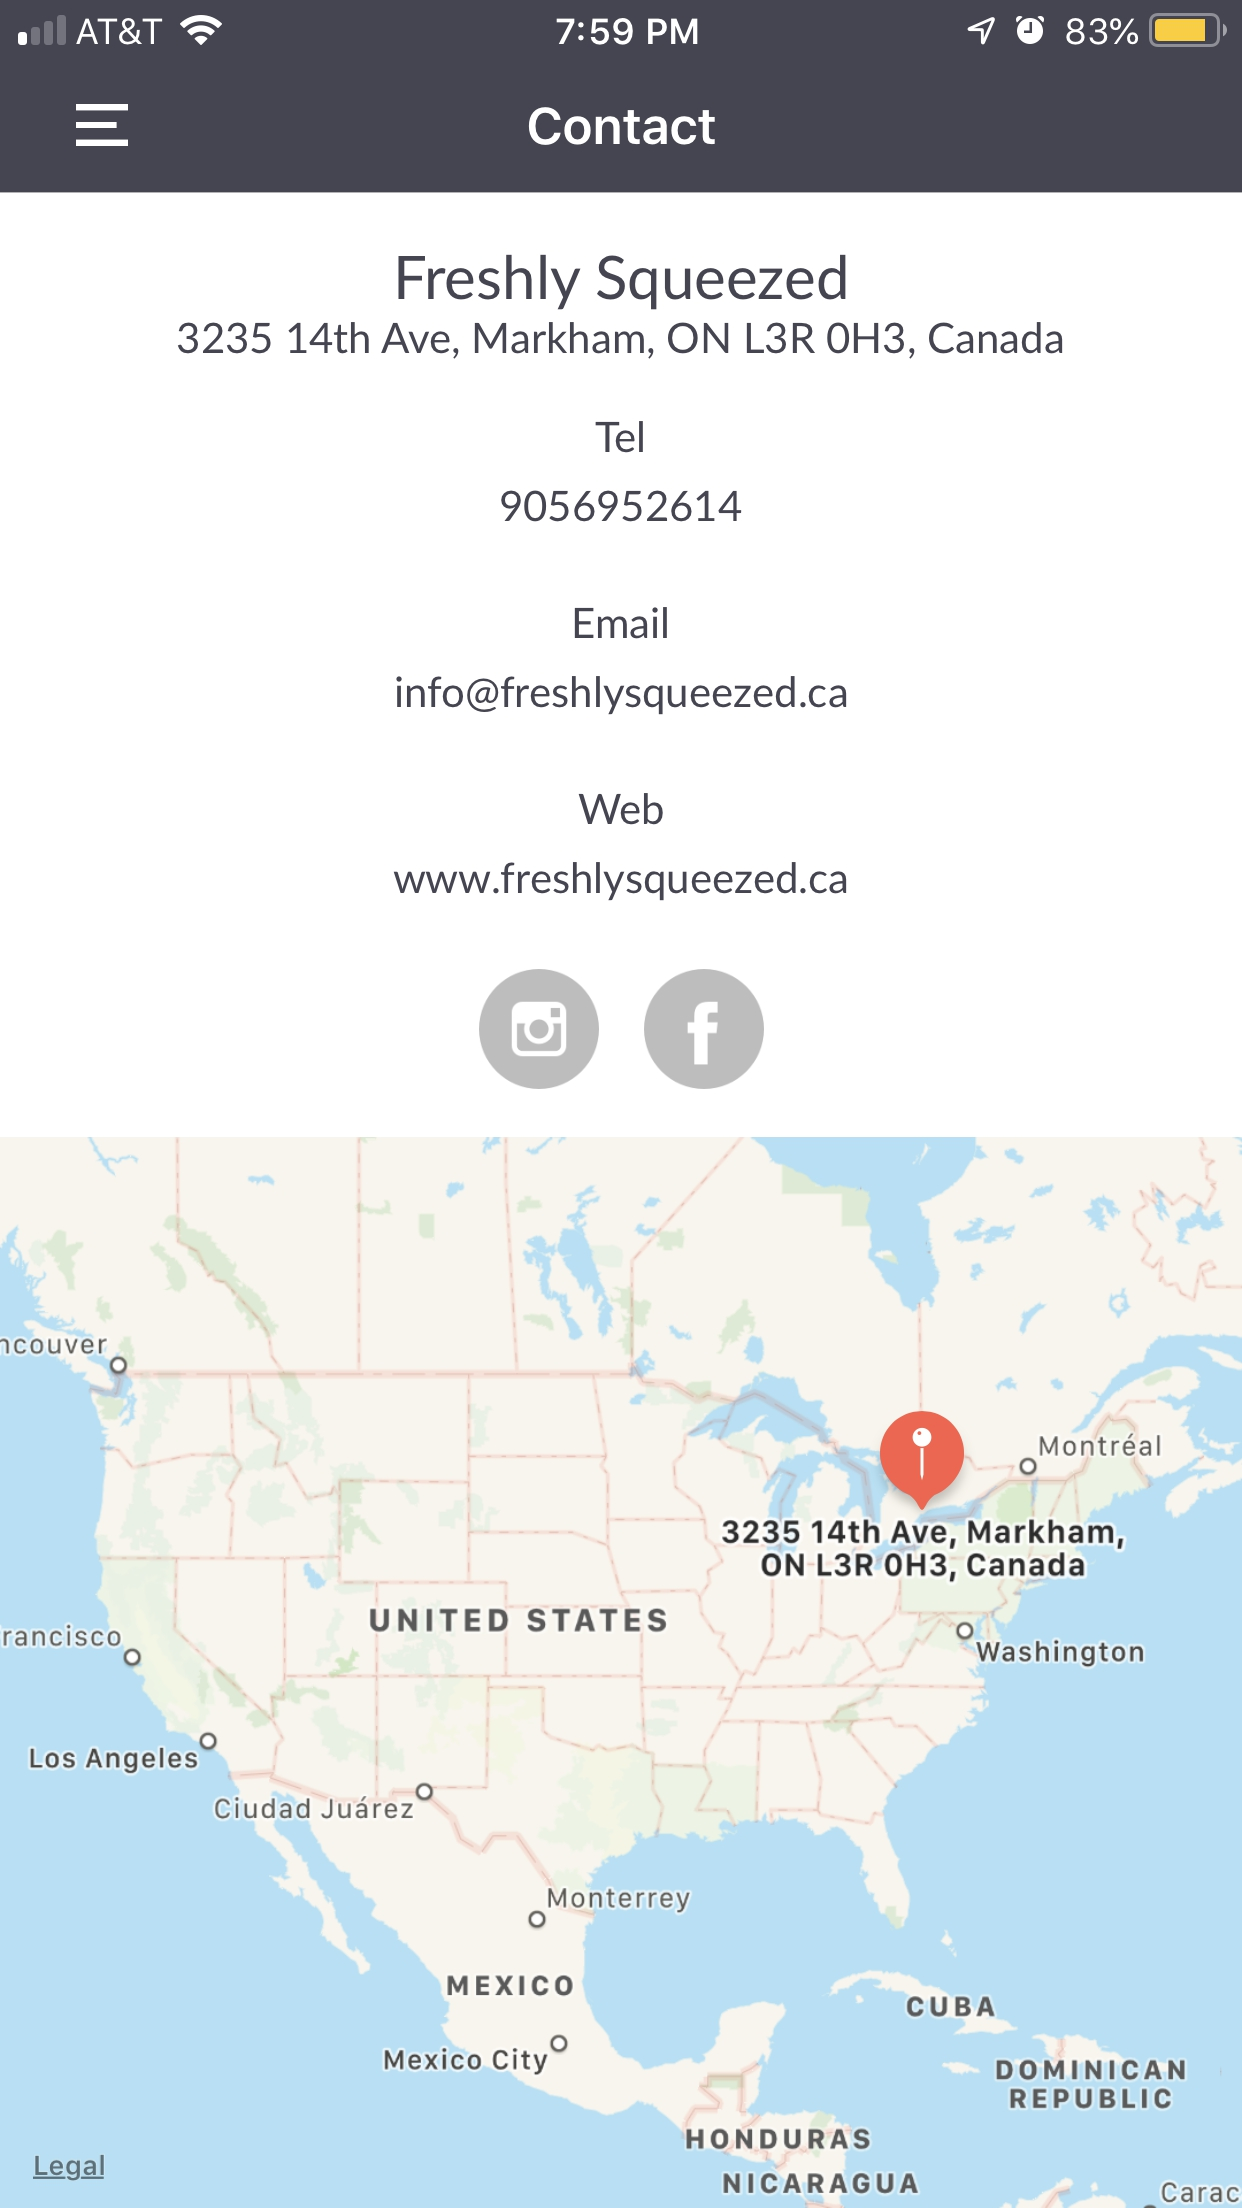Icon: (643, 969, 764, 1090), (76, 105, 130, 149)
Image: (2, 1137, 1242, 2208), (479, 968, 601, 1090)
Text: (177, 321, 1063, 359), (397, 255, 848, 311), (393, 861, 848, 902), (396, 676, 848, 716), (500, 490, 742, 523), (528, 108, 716, 147), (575, 607, 667, 640), (578, 793, 664, 826), (594, 422, 645, 453)
UpperTaskBar: (2, 2, 1242, 49)
